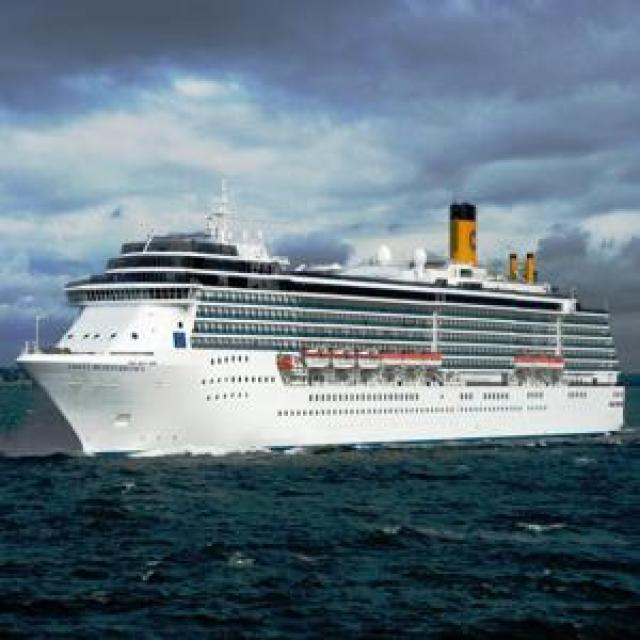passenger ship: (18, 178, 621, 454)
